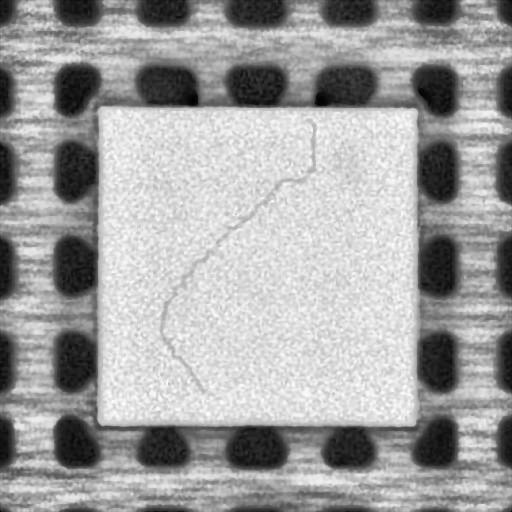DIE_CRACK: (149, 116, 314, 392)
